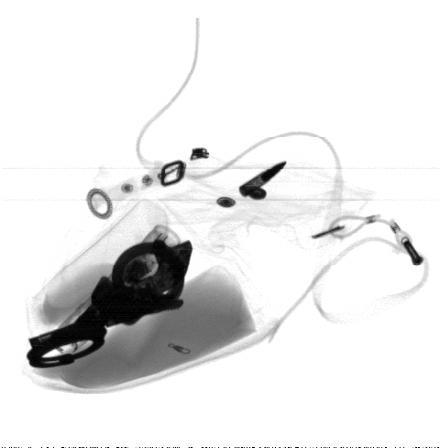Baton: (34, 224, 183, 366)
Bullet: (239, 159, 288, 196)
Gun: (31, 241, 193, 349)
HandCuffs: (25, 237, 184, 369)
